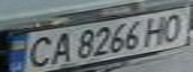2: (93, 24, 115, 56)
6: (121, 17, 148, 51), (109, 20, 133, 54)
8: (75, 26, 96, 60)
A: (45, 29, 75, 65)
C: (18, 34, 57, 70)
H: (139, 14, 175, 47)
O: (157, 10, 193, 44)
